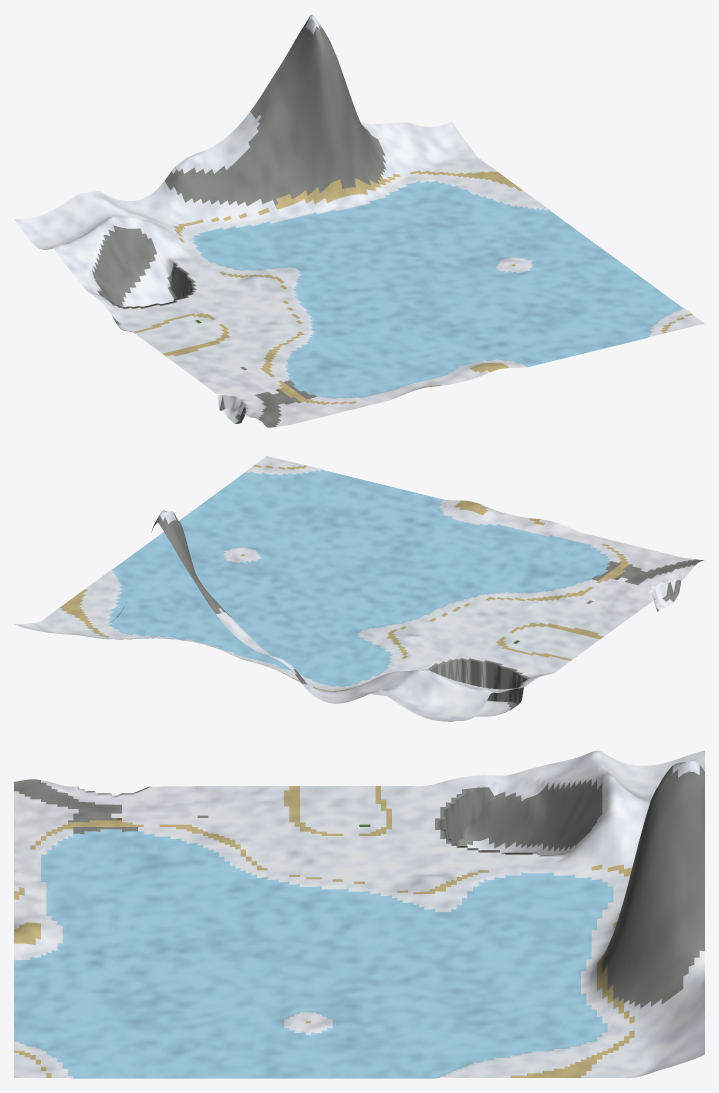
The model's file is chunk_6_1.glb.
The picture shows the model from 3 angles, top to bottom: view 1: azimuth 30°, elevation 25°; view 2: azimuth 150°, elevation 25°; view 3: azimuth 270°, elevation 25°; orthographic projection. The views are drawn at different scales.
Visible parts, largest first — view 1: Surface_Ice, Surface_Snow, Surface_Gravel, Surface_Sand; view 2: Surface_Ice, Surface_Snow, Surface_Gravel, Surface_Sand; view 3: Surface_Ice, Surface_Snow, Surface_Gravel, Surface_Sand.
Part boxes in pixels (bbox=[...]): Surface_Ice: bbox=[192, 180, 682, 398]; Surface_Snow: bbox=[14, 14, 704, 426]; Surface_Gravel: bbox=[92, 20, 386, 427]; Surface_Sand: bbox=[133, 170, 692, 404]; Surface_Ice: bbox=[107, 469, 610, 686]; Surface_Snow: bbox=[14, 456, 694, 721]; Surface_Gravel: bbox=[114, 512, 703, 708]; Surface_Sand: bbox=[59, 464, 629, 691]; Surface_Ice: bbox=[14, 829, 613, 1078]; Surface_Snow: bbox=[14, 750, 704, 1078]; Surface_Gravel: bbox=[14, 765, 704, 1008]; Surface_Sand: bbox=[14, 786, 634, 1077].
Bounding box in the file's own units: 256 × 112 × 256.
